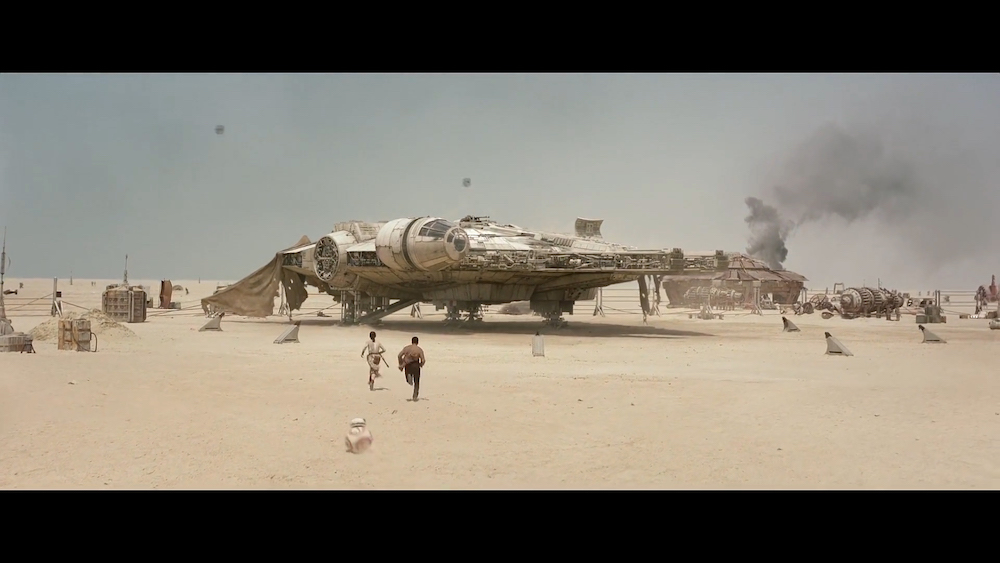Millennium Falcon: (278, 217, 727, 303)
Tie Fighter: (463, 179, 472, 188), (217, 126, 225, 135)
